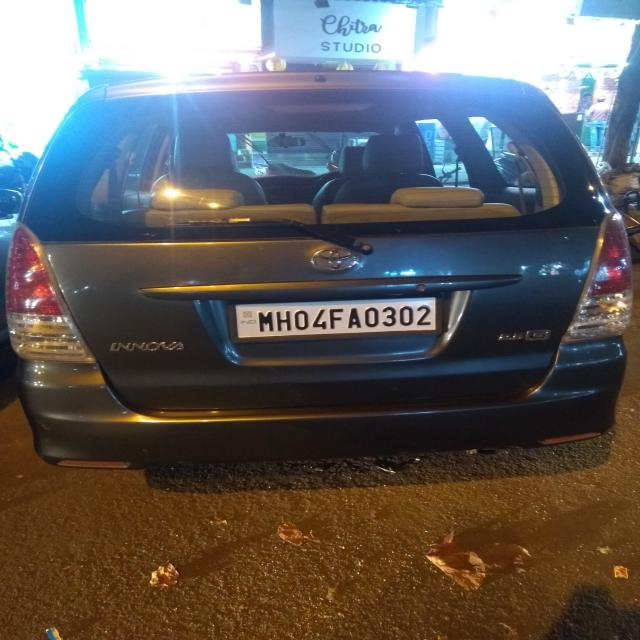Number-Plate: (232, 301, 443, 336)
